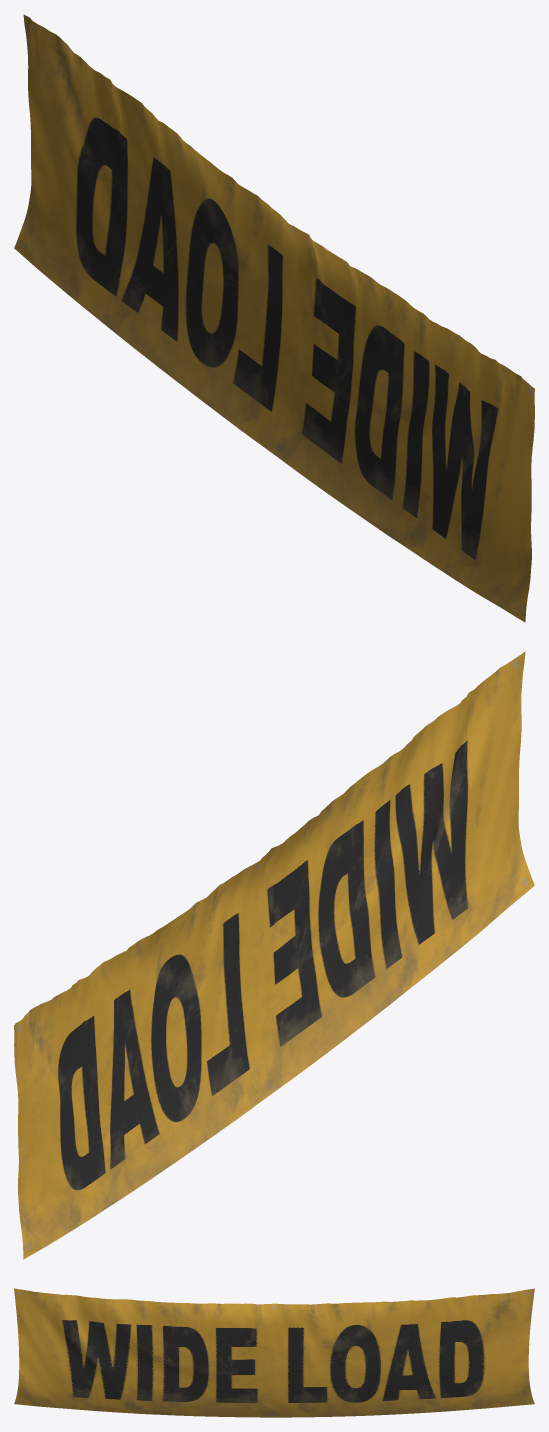
Rendered from SM_Banner_WideLoad_A.fbx.
3 renders of one model, top to bottom at view 1: azimuth 30°, elevation 25°; view 2: azimuth 150°, elevation 25°; view 3: azimuth 270°, elevation 25°, orthographic. The views are drawn at different scales.
Visible parts, largest first — view 1: SM_Banner_WideLoad_A_LOD0; view 2: SM_Banner_WideLoad_A_LOD0; view 3: SM_Banner_WideLoad_A_LOD0.
Part boxes in pixels (box(x1,y1,x2,y2)): SM_Banner_WideLoad_A_LOD0: box(14, 14, 534, 622); SM_Banner_WideLoad_A_LOD0: box(14, 651, 534, 1259); SM_Banner_WideLoad_A_LOD0: box(14, 1288, 534, 1417).
Size of the model in its own units: 9.5 by 280 by 76.93.
Materials: 1 (1 with a texture image).
